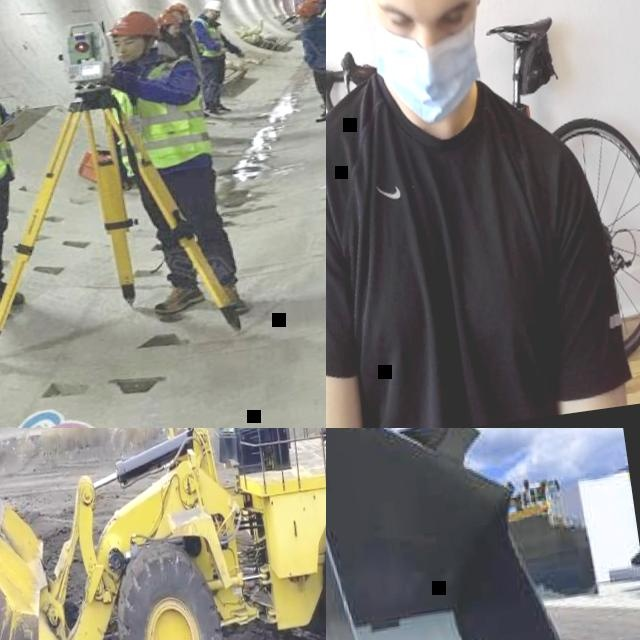Hardhat: (108, 6, 163, 43), (153, 10, 184, 27), (295, 0, 320, 17), (199, 0, 223, 14), (171, 0, 189, 12)
Mask: (367, 0, 491, 129), (210, 12, 222, 21)
NO-Mask: (115, 46, 142, 64), (169, 28, 178, 37), (300, 17, 307, 23)
NO-Safety Vest: (326, 73, 584, 428), (157, 32, 203, 82), (302, 16, 326, 72), (180, 22, 196, 46)
Person: (326, 0, 635, 428), (91, 0, 252, 330), (0, 32, 38, 323), (187, 0, 253, 117), (164, 0, 213, 122), (295, 0, 326, 122), (302, 0, 326, 109), (156, 11, 195, 64)
Safety Vest: (102, 50, 217, 181), (195, 14, 228, 57), (319, 4, 326, 21)
machinery: (0, 428, 326, 640), (326, 428, 638, 640)
